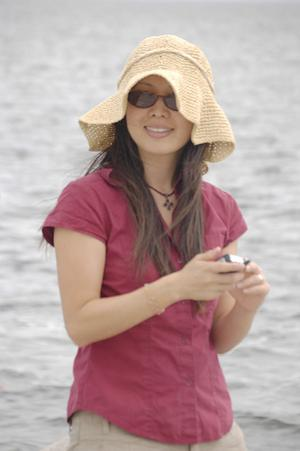person: (41, 35, 269, 449)
